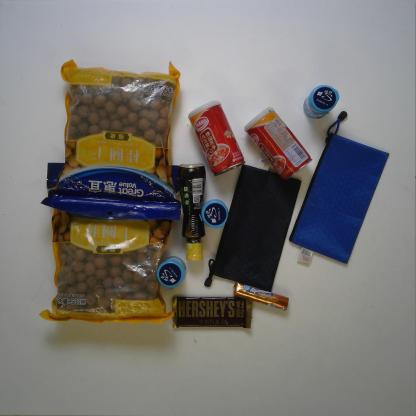Candy: (231, 280, 290, 314)
Canned Food: (243, 106, 312, 180), (187, 98, 245, 178)
Chocolate: (170, 295, 253, 329)
Dried Food: (39, 57, 184, 221), (38, 161, 176, 325)
Gum: (302, 84, 341, 120), (157, 255, 186, 290), (199, 198, 227, 230)
Seasoner: (177, 161, 208, 262)
Stationery: (288, 110, 390, 268), (203, 165, 303, 292)
